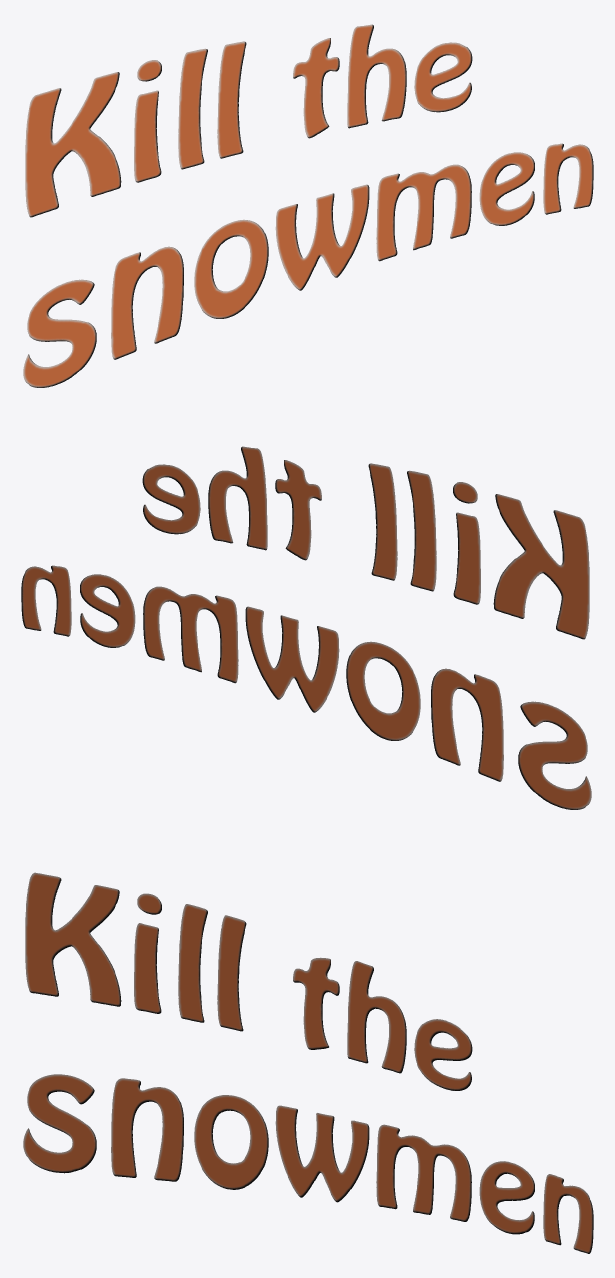
Rendered from GameTitle3.fbx.
3 renders of one model, top to bottom at view 1: azimuth 30°, elevation 25°; view 2: azimuth 150°, elevation 25°; view 3: azimuth 330°, elevation 25°, orthographic.
Parts seen in each view (by area): view 1: Model; view 2: Model; view 3: Model.
Boxes of the visible parts, left/top/right/bottom form: Model: left=23, top=24, right=593, bottom=387; Model: left=21, top=446, right=591, bottom=809; Model: left=23, top=872, right=593, bottom=1253.
Bounding box in the file's own units: 89.36 × 46.42 × 2.04e-14.
